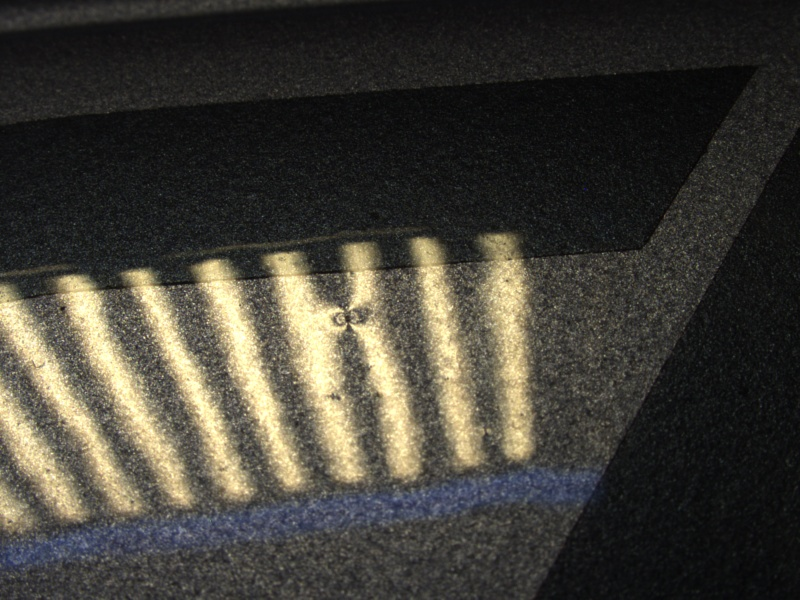bad: (318, 289, 383, 341)
